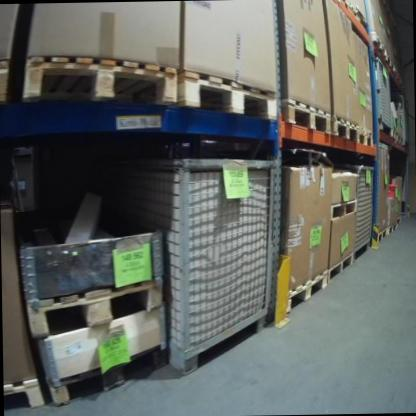pallet: (19, 49, 180, 108), (25, 273, 168, 339), (40, 339, 171, 408), (176, 68, 279, 121), (286, 270, 330, 318), (282, 96, 330, 139), (4, 376, 38, 413), (327, 250, 356, 289), (332, 113, 358, 145), (330, 195, 360, 222), (0, 55, 12, 103), (372, 32, 388, 58), (357, 125, 375, 147), (374, 225, 388, 246), (389, 222, 398, 235)
small_load_carrier: (387, 182, 400, 198)
stillage: (92, 157, 274, 375), (355, 162, 372, 261), (373, 58, 395, 130), (393, 92, 412, 151)
